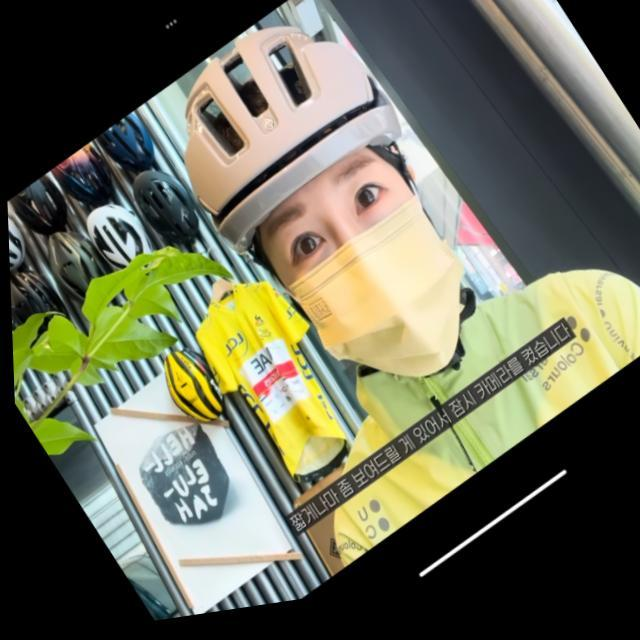Helmet: (179, 23, 475, 381)
